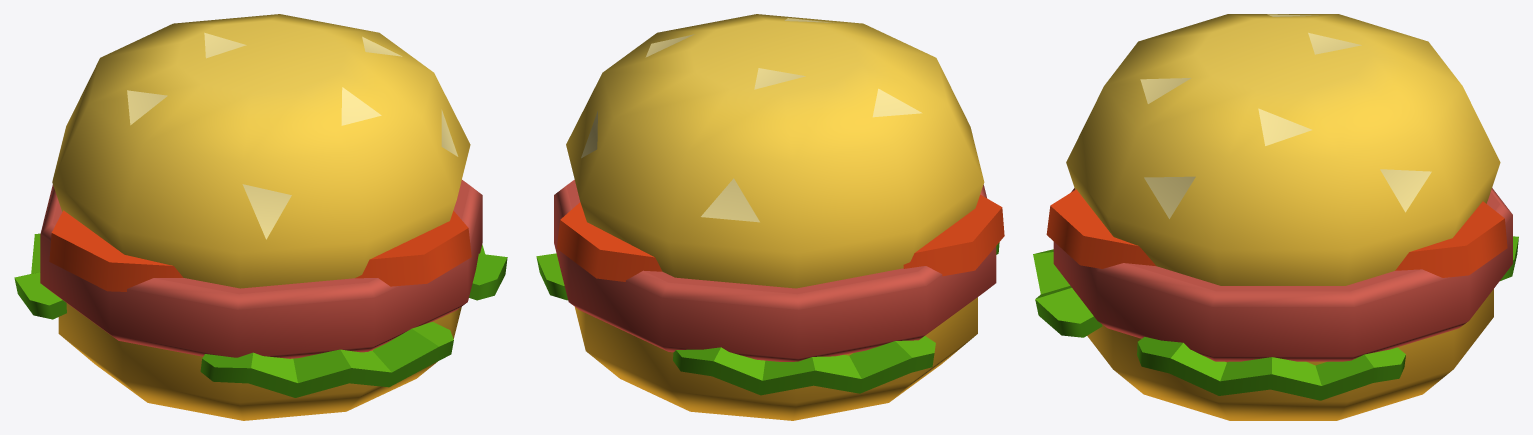
Rendered from Burger.fbx.
3 views of the same model, side by side, from view 1: azimuth 30°, elevation 25°; view 2: azimuth 150°, elevation 25°; view 3: azimuth 270°, elevation 25° (orthographic).
Parts seen in each view (by area): view 1: Burger; view 2: Burger; view 3: Burger.
Part boxes in pixels (bbox=[...]): Burger: bbox=[14, 14, 507, 420]; Burger: bbox=[536, 14, 1004, 420]; Burger: bbox=[1033, 14, 1518, 420].
Size of the model in its own units: 5.72 by 3.85 by 5.71.
